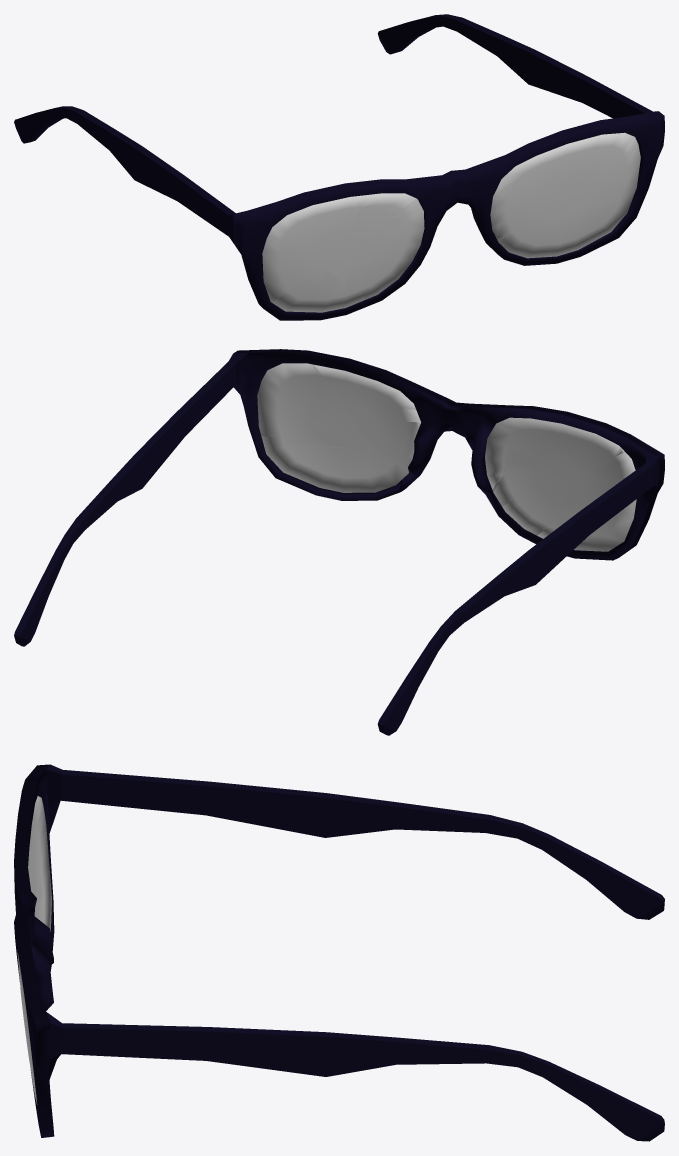
File: shattered-glass.fbx
3 views of the same model, one above another, from view 1: azimuth 30°, elevation 25°; view 2: azimuth 150°, elevation 25°; view 3: azimuth 270°, elevation 25° (orthographic). The views are drawn at different scales.
Parts seen in each view (by area): view 1: frame, lens, full-glass, lens_cell.008, lens_cell.004, lens_cell.002, lens_cell.003, lens_cell.009, lens_cell.007, lens_cell, lens_cell.006, lens_cell.001; view 2: frame, full-glass, lens, lens_cell.008, lens_cell, lens_cell.005, lens_cell.009, lens_cell.007, lens_cell.002, lens_cell.003, lens_cell.001, lens_cell.004 (+1 smaller); view 3: frame, full-glass, lens_cell.002, lens.
Part boxes in pixels (x1=…): frame: x1=14, y1=14, x2=664, y2=320; lens: x1=262, y1=133, x2=640, y2=312; full-glass: x1=15, y1=14, x2=664, y2=319; lens_cell.008: x1=540, y1=132, x2=640, y2=219; lens_cell.004: x1=272, y1=263, x2=353, y2=312; lens_cell.002: x1=262, y1=221, x2=324, y2=302; lens_cell.003: x1=287, y1=196, x2=358, y2=243; lens_cell.009: x1=320, y1=237, x2=397, y2=299; lens_cell.007: x1=345, y1=207, x2=413, y2=266; lens_cell: x1=498, y1=209, x2=613, y2=258; lens_cell.006: x1=358, y1=193, x2=415, y2=218; lens_cell.001: x1=398, y1=198, x2=424, y2=258; frame: x1=14, y1=349, x2=664, y2=735; full-glass: x1=19, y1=349, x2=664, y2=733; lens: x1=257, y1=363, x2=632, y2=551; lens_cell.008: x1=257, y1=363, x2=376, y2=451; lens_cell: x1=261, y1=436, x2=408, y2=492; lens_cell.005: x1=314, y1=365, x2=416, y2=465; lens_cell.009: x1=502, y1=465, x2=586, y2=535; lens_cell.007: x1=492, y1=432, x2=573, y2=506; lens_cell.002: x1=581, y1=452, x2=636, y2=541; lens_cell.003: x1=557, y1=424, x2=624, y2=473; lens_cell.001: x1=485, y1=438, x2=514, y2=489; lens_cell.004: x1=537, y1=494, x2=607, y2=551; frame: x1=14, y1=770, x2=664, y2=1141; full-glass: x1=14, y1=764, x2=663, y2=1140; lens_cell.002: x1=32, y1=796, x2=51, y2=899; lens: x1=17, y1=805, x2=51, y2=1104.
Bounding box in the file's own units: 415 × 125 × 441.
